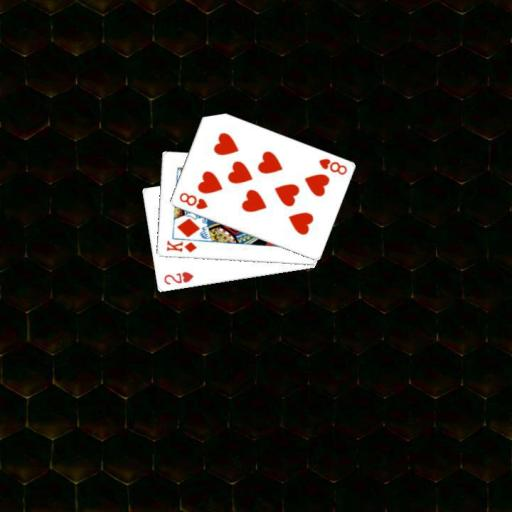2H: (161, 269, 195, 287)
8H: (176, 189, 209, 211), (315, 155, 348, 176)
KD: (163, 237, 198, 254)
